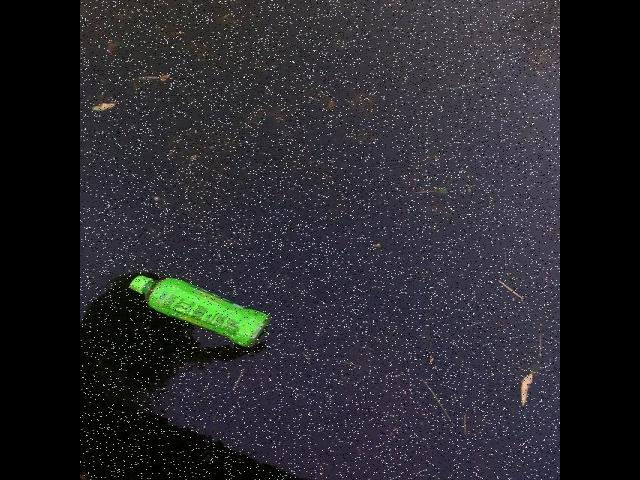Bottle: (124, 257, 276, 356)
